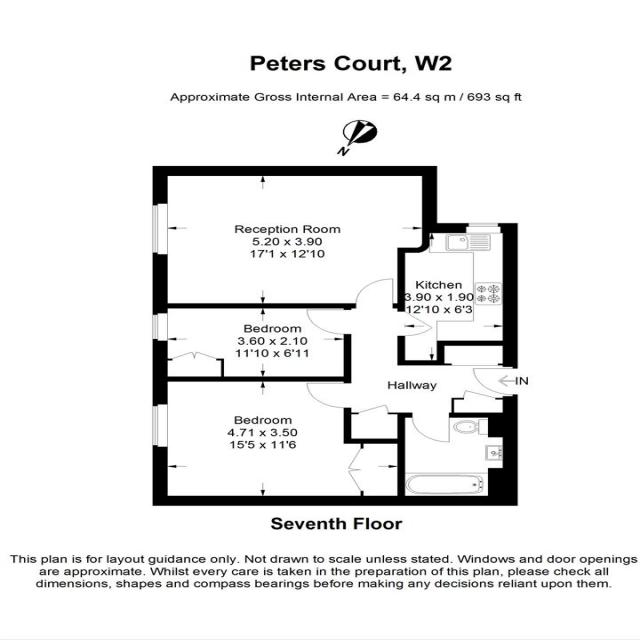DOOR: (468, 365, 519, 396), (302, 381, 352, 411), (409, 412, 454, 445), (301, 308, 353, 336), (354, 276, 397, 309), (397, 306, 435, 339)
ROOM: (152, 166, 438, 308), (152, 376, 406, 506), (397, 223, 518, 366), (152, 303, 353, 381)
WINDOW: (150, 201, 172, 256), (150, 403, 170, 449), (150, 311, 170, 342), (464, 221, 503, 233)
